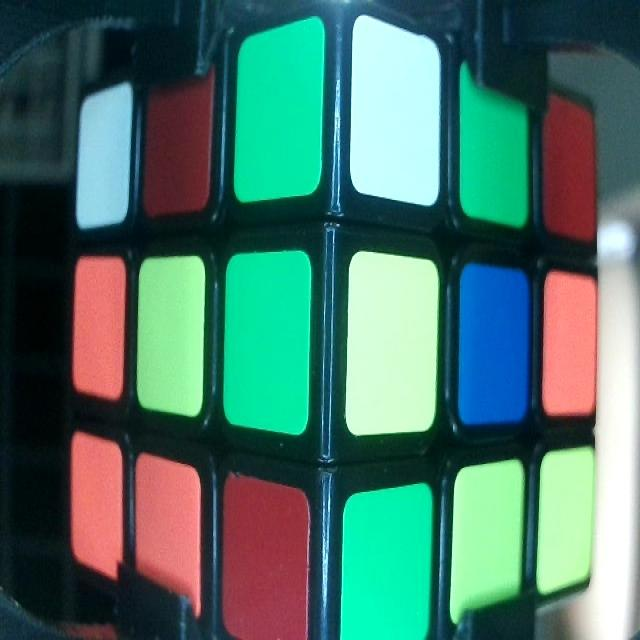b: (461, 284, 527, 403)
g: (227, 264, 308, 405), (240, 51, 319, 170), (347, 508, 429, 620), (464, 100, 526, 208)
o: (135, 478, 200, 589), (77, 267, 122, 383), (546, 289, 594, 397), (72, 455, 122, 554)
r: (224, 497, 308, 628), (543, 119, 595, 222), (150, 104, 208, 192)
w: (354, 48, 439, 174), (80, 105, 128, 203)
y: (352, 268, 436, 405), (140, 268, 202, 394), (457, 476, 522, 590), (541, 466, 590, 564)
